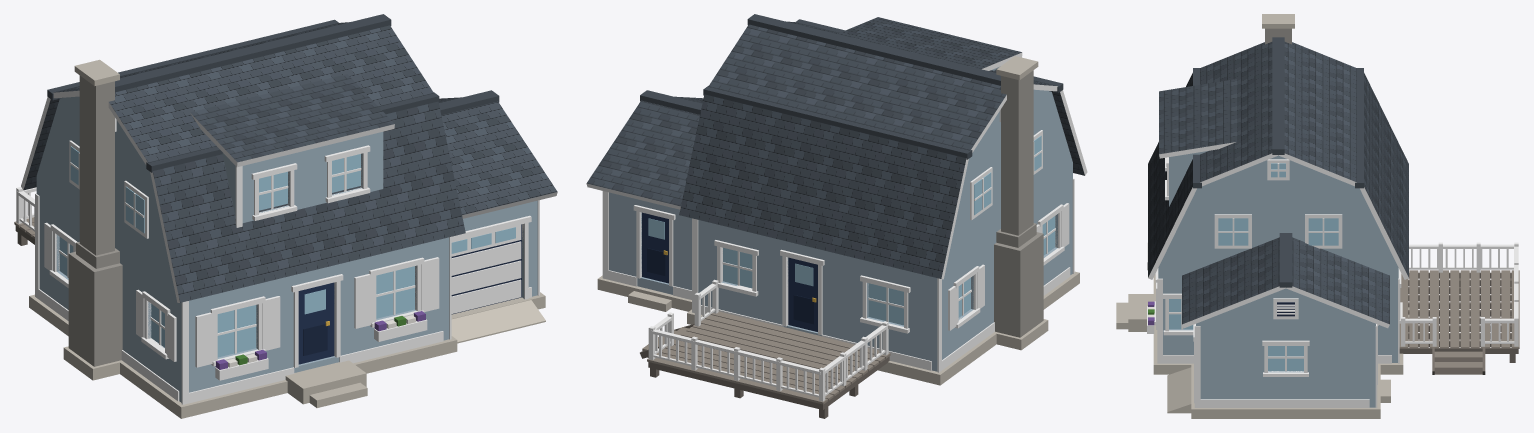
Rendered from base-05-level3.glb.
3 renders of one model, left to right at view 1: azimuth 30°, elevation 25°; view 2: azimuth 150°, elevation 25°; view 3: azimuth 270°, elevation 25°, orthographic. The views are drawn at different scales.
Parts seen in each view (by area): view 1: base_house_5_finished, piece_garage, piece_deck; view 2: base_house_5_finished, piece_garage, piece_deck; view 3: base_house_5_finished, piece_garage, piece_deck.
Part boxes in pixels (<box>): base_house_5_finished: <box>21,14,465,418</box>; piece_garage: <box>438,90,557,343</box>; piece_deck: <box>14,187,36,245</box>; base_house_5_finished: <box>679,14,1087,385</box>; piece_garage: <box>586,90,703,311</box>; piece_deck: <box>640,279,890,418</box>; base_house_5_finished: <box>1116,14,1409,374</box>; piece_garage: <box>1167,233,1390,418</box>; piece_deck: <box>1399,242,1519,374</box>.
Size of the model in its own units: 13.29 by 8.92 by 13.43.
Materials: 17 (1 with a texture image).
